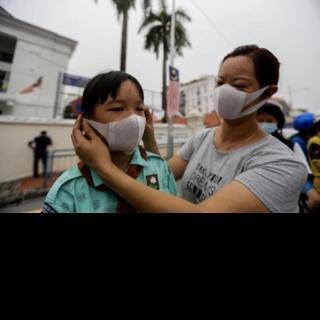with_mask: (96, 97, 147, 155), (212, 73, 258, 120)
